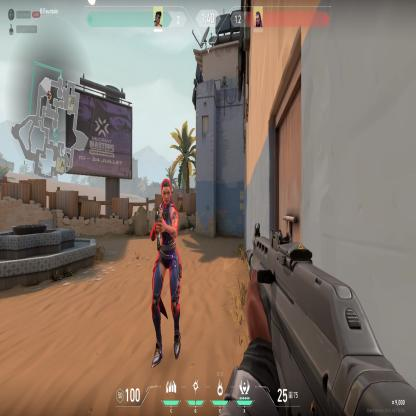enemy: (148, 174, 184, 370)
